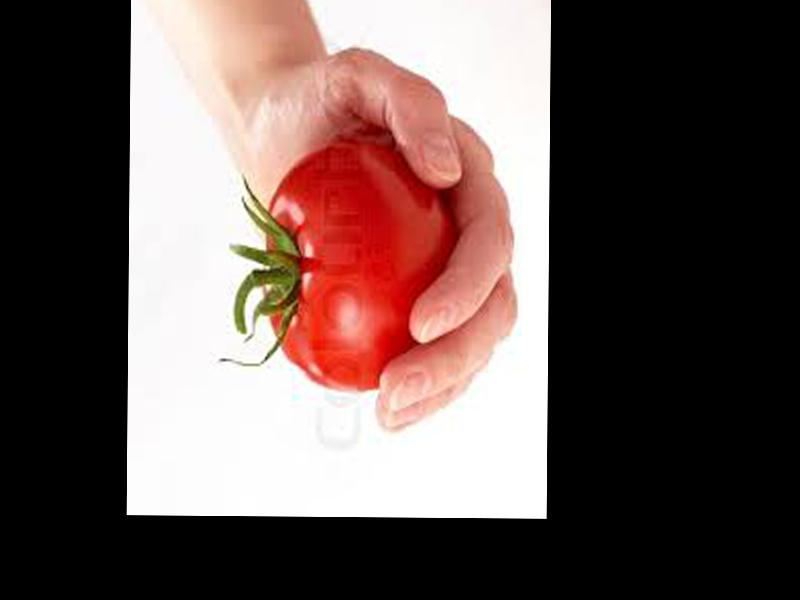Tomato: (261, 144, 455, 392)
